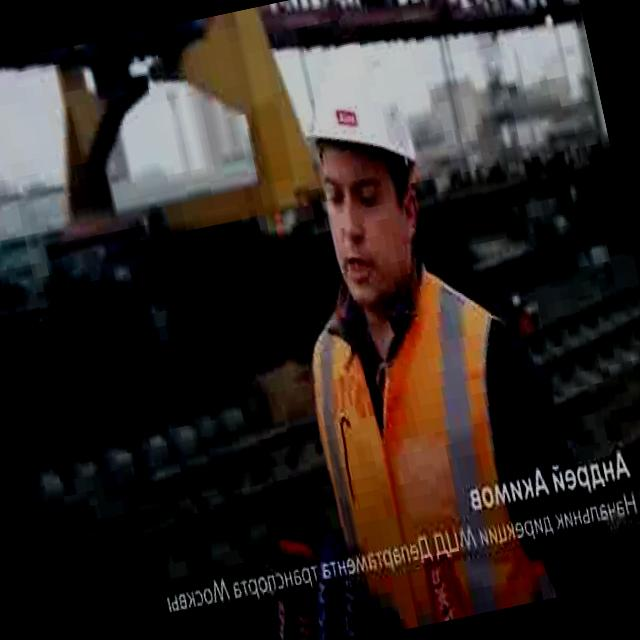helmet: (290, 40, 420, 186)
vest: (286, 253, 560, 639)
